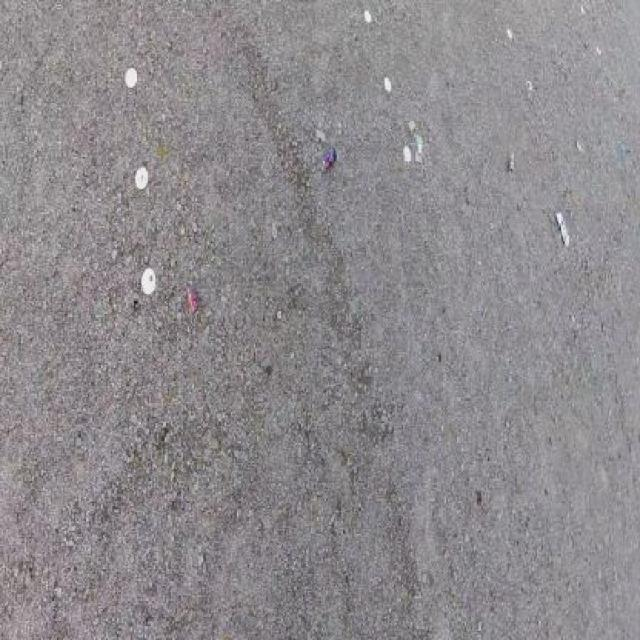Garbage: (555, 213, 570, 248), (320, 147, 337, 173), (186, 289, 200, 315), (615, 140, 627, 160), (415, 134, 422, 167), (316, 127, 326, 142), (508, 154, 515, 174), (408, 119, 417, 133), (575, 140, 582, 154)
